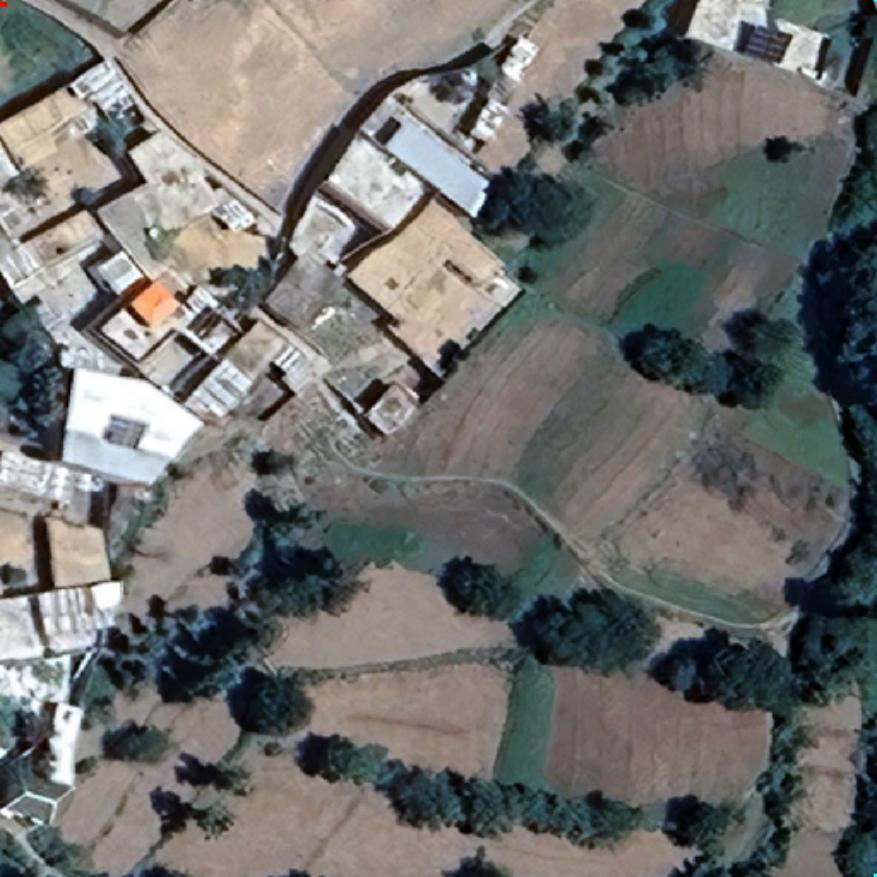Solarpanel: (744, 23, 792, 65)
